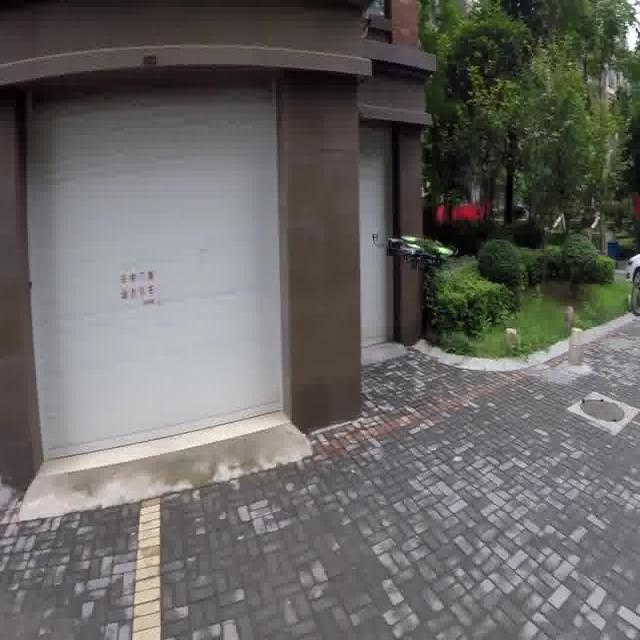drone: (368, 227, 454, 269)
